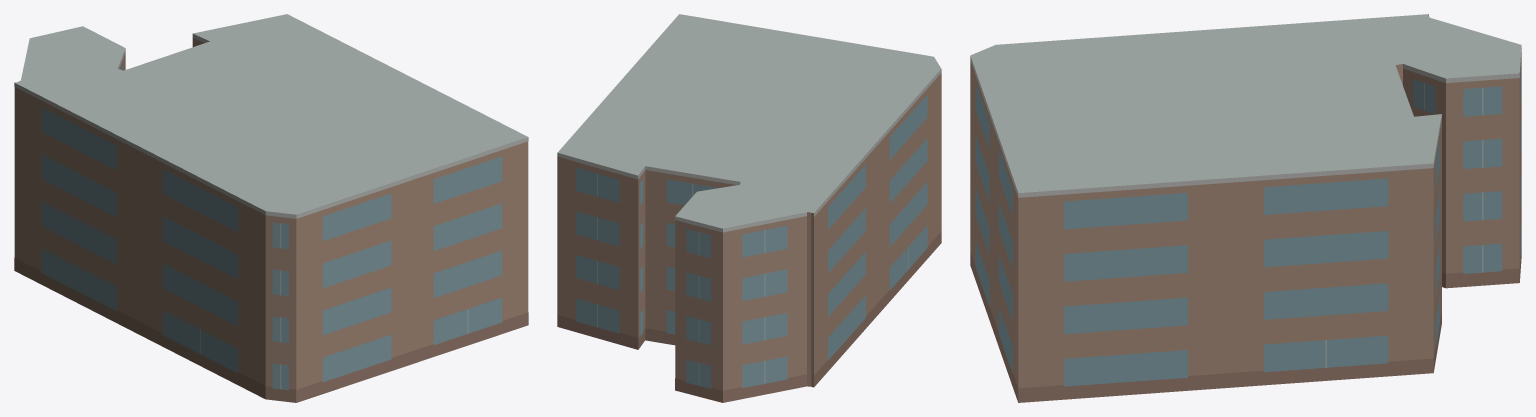
Rendered from survey-upis-32458541.glb.
3 views of the same model, side by side, from view 1: azimuth 30°, elevation 25°; view 2: azimuth 150°, elevation 25°; view 3: azimuth 270°, elevation 25° (orthographic). The views are drawn at different scales.
Visible parts, largest first — view 1: survey-upis-32458541.tmp; view 2: survey-upis-32458541.tmp; view 3: survey-upis-32458541.tmp.
Part boxes in pixels (x1,y1,x2,y2): survey-upis-32458541.tmp: (14, 14, 528, 402); survey-upis-32458541.tmp: (557, 14, 941, 402); survey-upis-32458541.tmp: (970, 14, 1521, 402).
Size of the model in its own units: 20.38 by 11.11 by 26.49.
